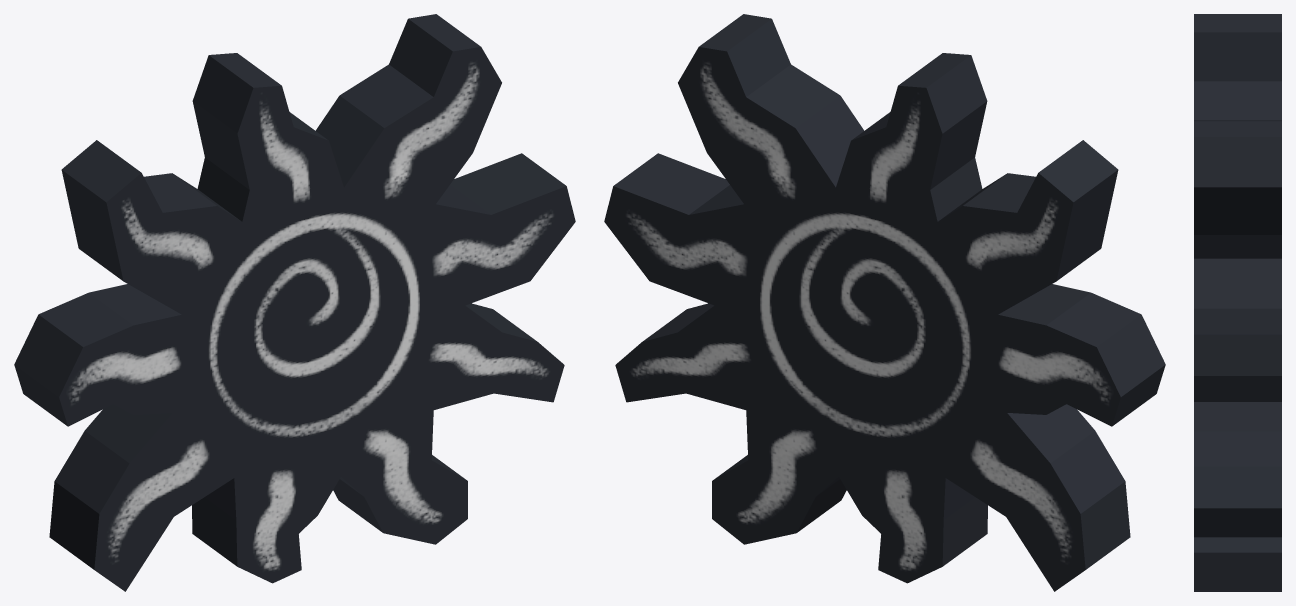
Rendered from Sun.fbx.
3 views of the same model, side by side, from view 1: azimuth 30°, elevation 25°; view 2: azimuth 150°, elevation 25°; view 3: azimuth 270°, elevation 25° (orthographic). The views are drawn at different scales.
Visible parts, largest first — view 1: m_Sun; view 2: m_Sun; view 3: m_Sun.
Boxes of the visible parts, x1,y1,x2,y2 form: m_Sun: [14, 14, 575, 591]; m_Sun: [604, 14, 1165, 591]; m_Sun: [1194, 14, 1281, 591].
Bounding box in the file's own units: 0.665 × 0.6166 × 0.1.
